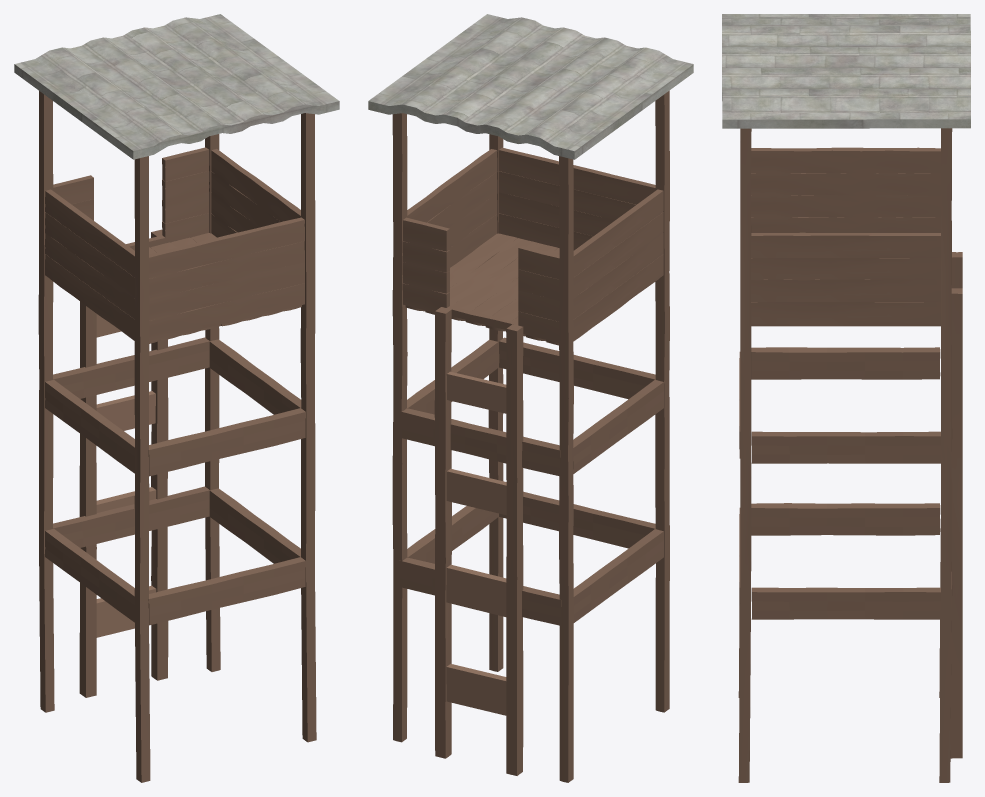
The model's file is Watchtower_.fbx.
The picture shows the model from 3 angles, left to right: view 1: azimuth 30°, elevation 25°; view 2: azimuth 150°, elevation 25°; view 3: azimuth 270°, elevation 25°; orthographic projection. The views are drawn at different scales.
Parts seen in each view (by area): view 1: Cube.011, Supports, Ladder; view 2: Cube.011, Supports, Ladder; view 3: Cube.011, Supports, Ladder.
Part boxes in pixels (x1,y1,x2,y2): Cube.011: (14,14,339,343); Supports: (38,91,316,782); Ladder: (79,229,168,697); Cube.011: (368,14,693,345); Supports: (392,90,669,782); Ladder: (434,307,523,775); Cube.011: (722,14,970,326); Supports: (738,128,952,782); Ladder: (950,252,962,758).
Bounding box in the file's own units: 869 × 2605 × 868.
